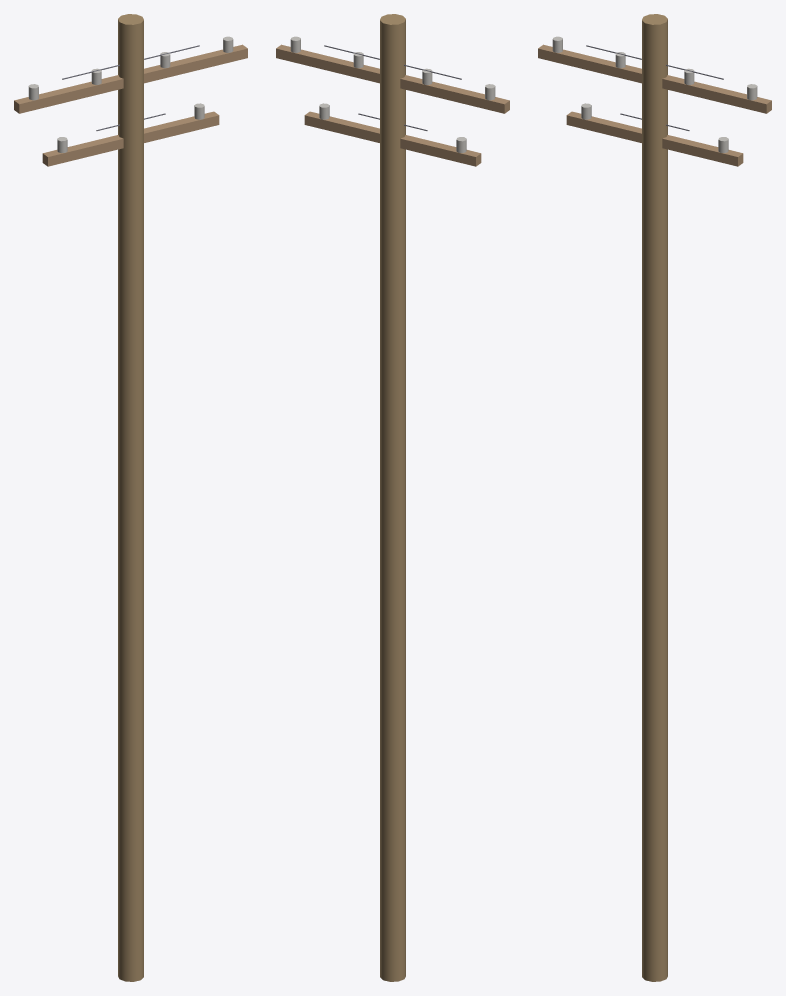
The model's file is power_pole.glb.
The picture shows the model from 3 angles, left to right: view 1: azimuth 30°, elevation 25°; view 2: azimuth 150°, elevation 25°; view 3: azimuth 330°, elevation 25°; orthographic projection.
Parts seen in each view (by area): view 1: pole, crossbar_1, crossbar_2; view 2: pole, crossbar_1, crossbar_2; view 3: pole, crossbar_1, crossbar_2.
Part boxes in pixels (box(x1,y1,x2,y2)): pole: box(118, 14, 143, 981); crossbar_1: box(14, 44, 247, 113); crossbar_2: box(42, 111, 219, 166); pole: box(380, 14, 405, 981); crossbar_1: box(276, 44, 509, 113); crossbar_2: box(304, 111, 481, 166); pole: box(642, 14, 667, 981); crossbar_1: box(538, 44, 771, 113); crossbar_2: box(566, 111, 743, 166).
Size of the model in its own units: 2 by 8 by 0.1902.
